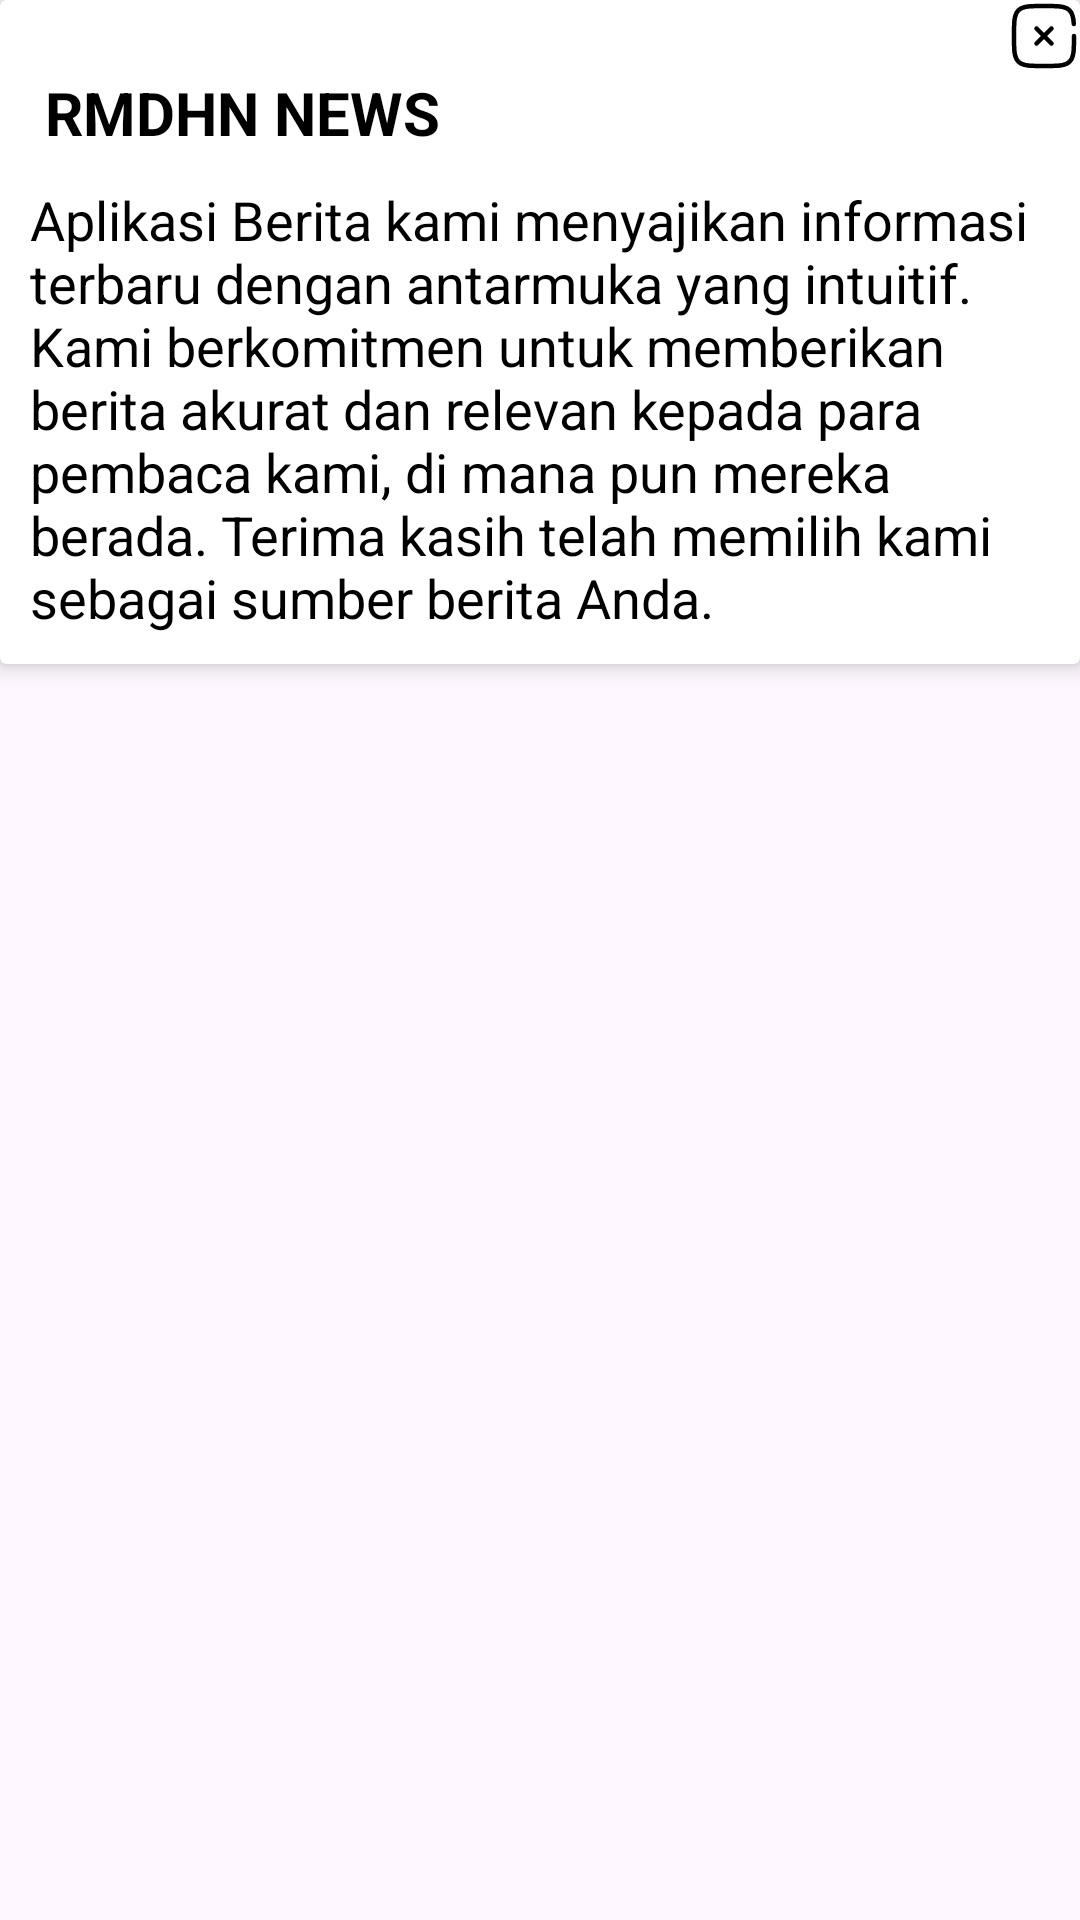

Named icons in this screenshot (1080w x 1920h) and their centers, point (x, y):
close: point (1045, 34)
